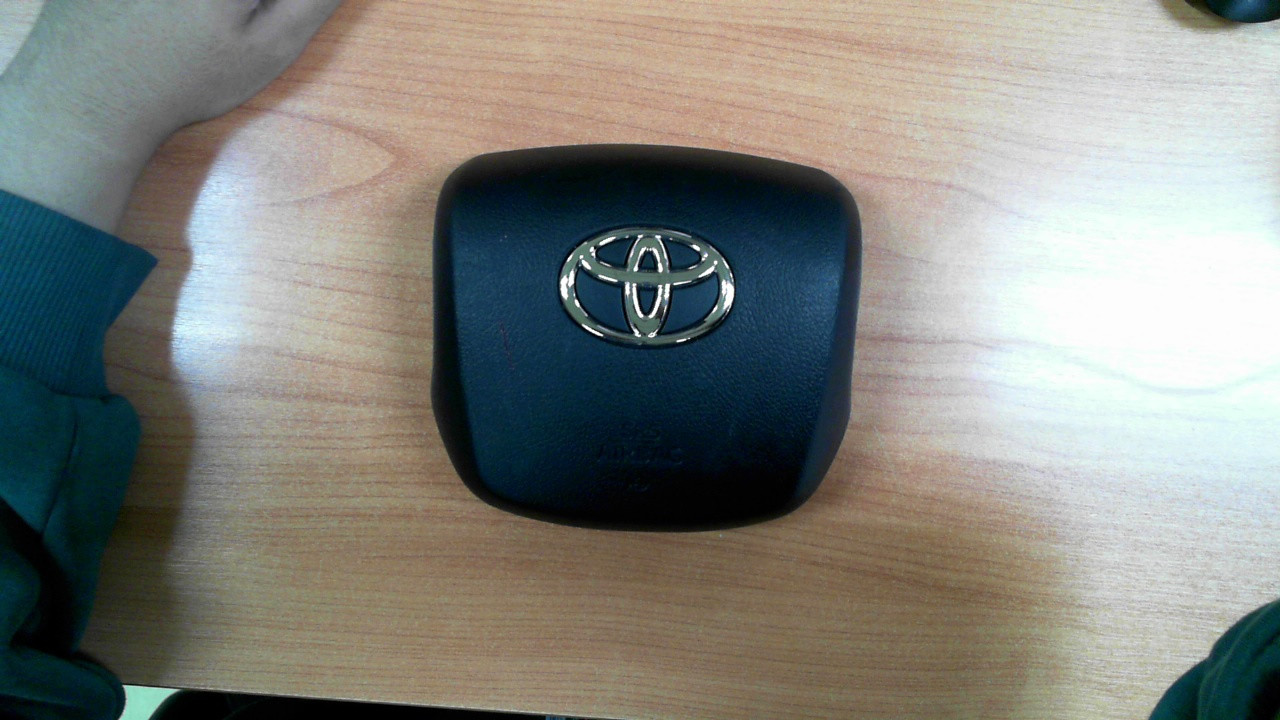Airbag: (429, 142, 863, 535)
Toyota: (558, 226, 736, 346)
